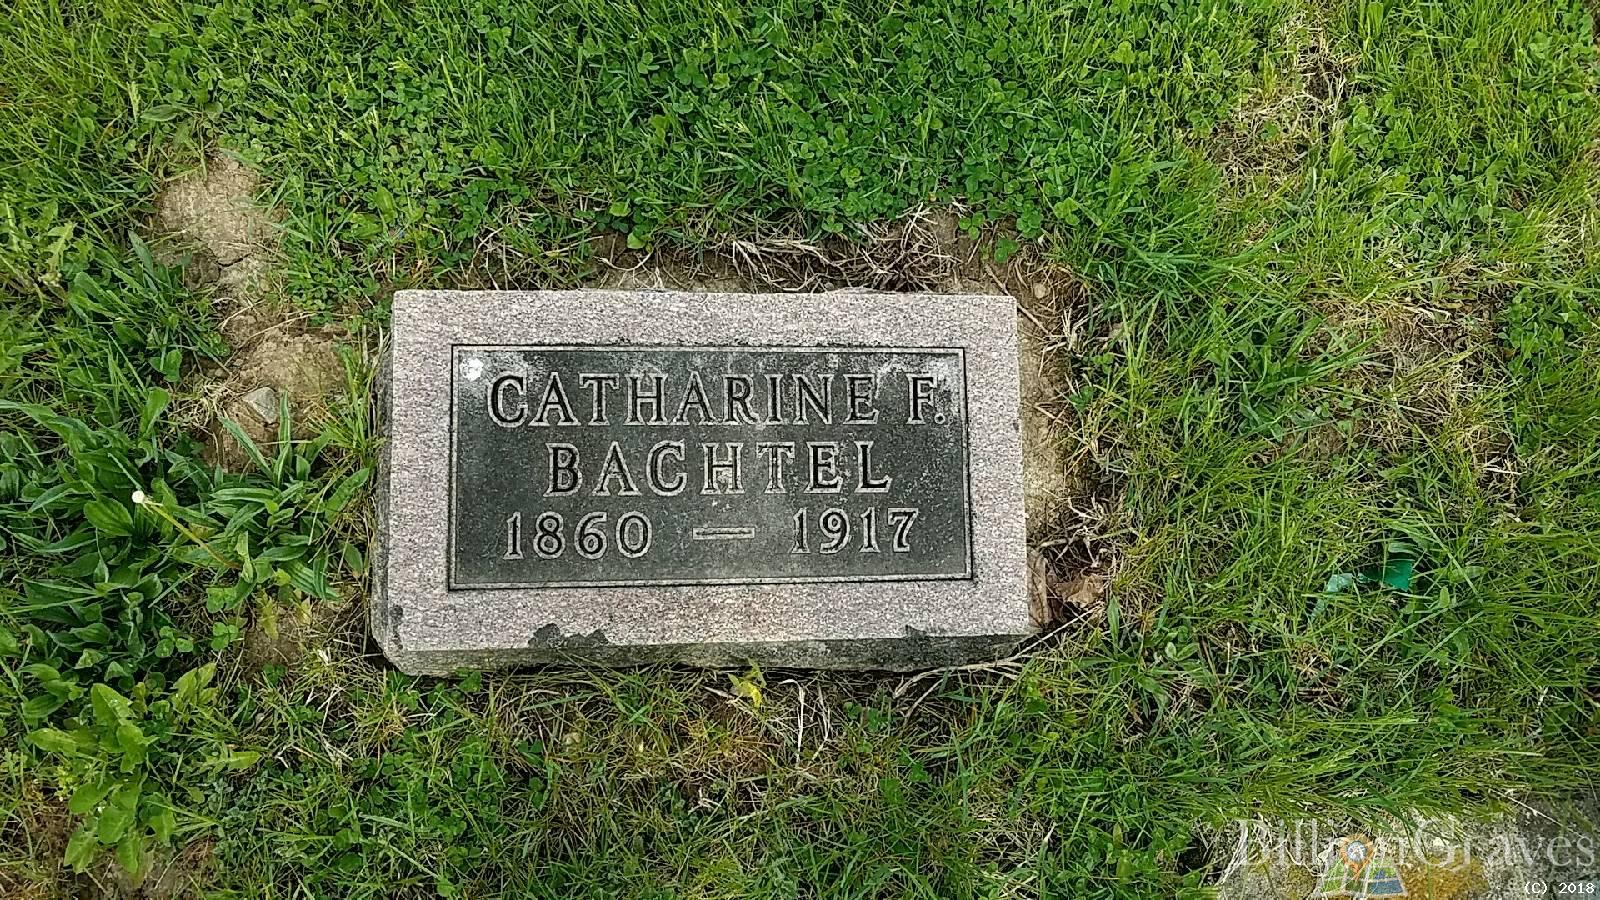flat: (341, 251, 1055, 678)
